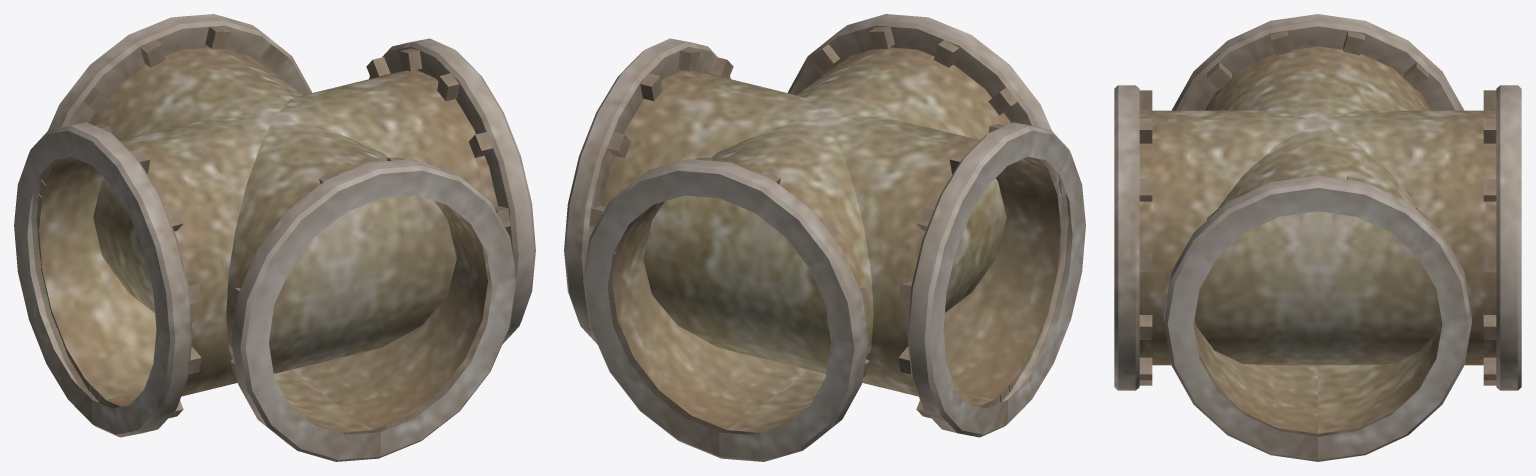
File: pipe-cross.glb
3 views of the same model, side by side, from view 1: azimuth 30°, elevation 25°; view 2: azimuth 150°, elevation 25°; view 3: azimuth 270°, elevation 25° (orthographic). The views are drawn at different scales.
Parts seen in each view (by area): view 1: body; view 2: body; view 3: body.
Boxes of the visible parts, x1,y1,x2,y2 form: body: (14, 14, 535, 461); body: (564, 14, 1085, 461); body: (1114, 14, 1521, 461).
Size of the model in its own units: 1 by 0.756 by 1.
Materials: 1 (1 with a texture image).
